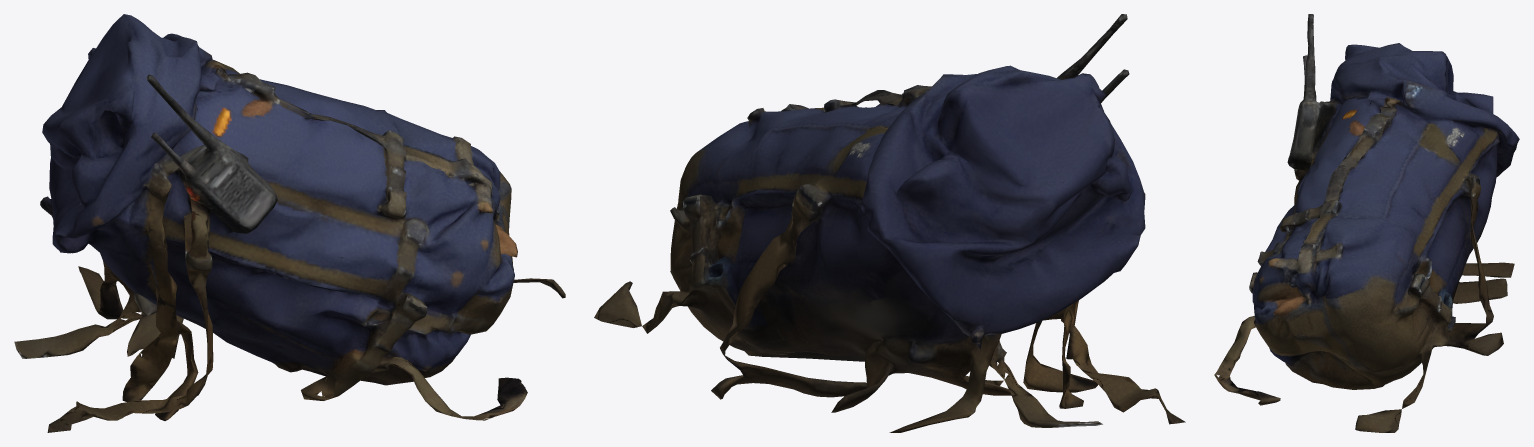
The model's file is pack.glb.
3 views of the same model, side by side, from view 1: azimuth 30°, elevation 25°; view 2: azimuth 150°, elevation 25°; view 3: azimuth 270°, elevation 25° (orthographic). The views are drawn at different scales.
Bounding box in the file's own units: 0.8977 × 0.6014 × 0.6123.
Materials: 1 (1 with a texture image).
